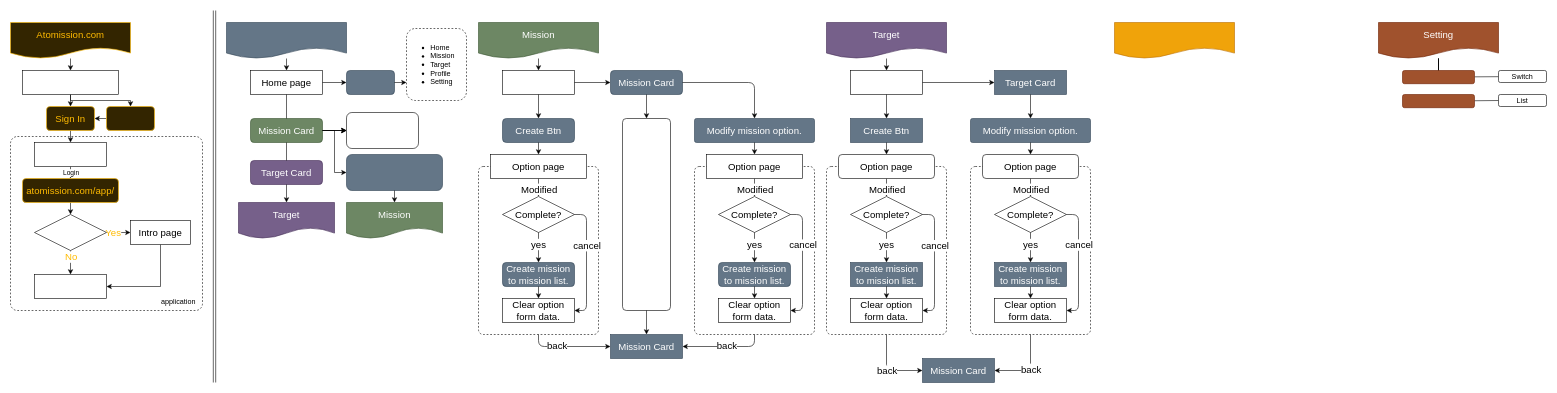
Image size: 1557x393. Some labels were removed from this diagram. The shapes that lost their labels are listed below. From the top down, each one's centre as x and y in pixels, then its label:
point (286, 40): Home
point (1174, 40): Profies
point (70, 82): Offical page
point (370, 82): Navbar
point (538, 82): Mission page
point (886, 82): Target page
point (1438, 77): Dark Mode
point (130, 118): Sign Up
point (1438, 101): Unit Group
point (382, 130): Update: Mission Item
point (70, 154): Login page
point (394, 172): Modify: Mission option.
point (70, 232): First time?
point (646, 214): Update mission items number.
point (70, 286): Main page
